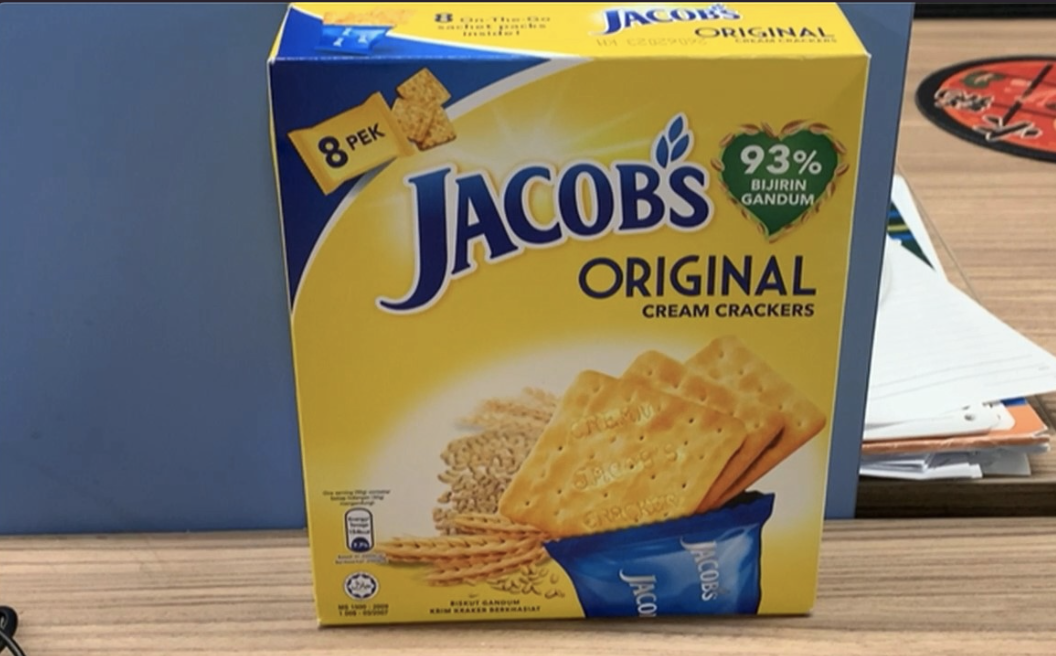crackers_200g-299g: (317, 72, 826, 610)
